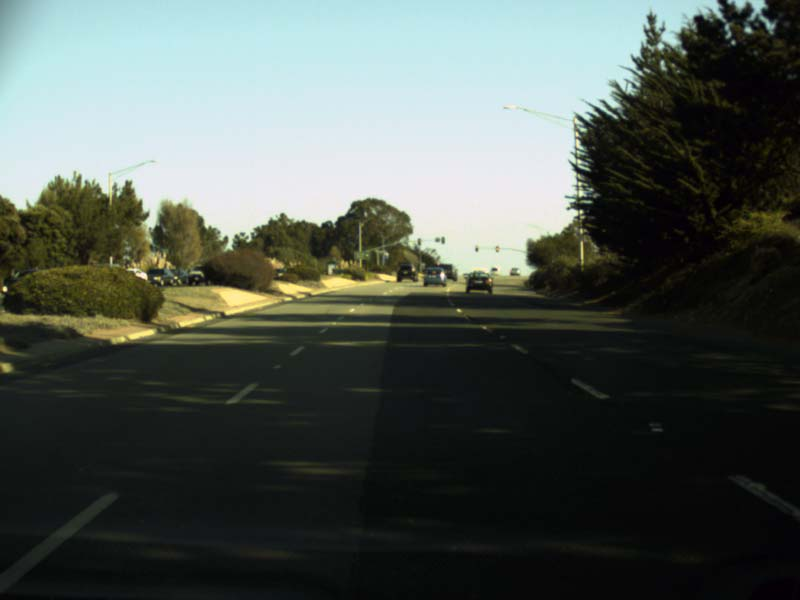Red: (475, 245, 478, 251)
Yellow: (495, 246, 498, 251)
